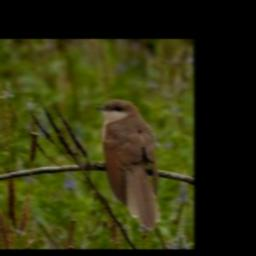Cuckoo: (94, 99, 161, 230)
